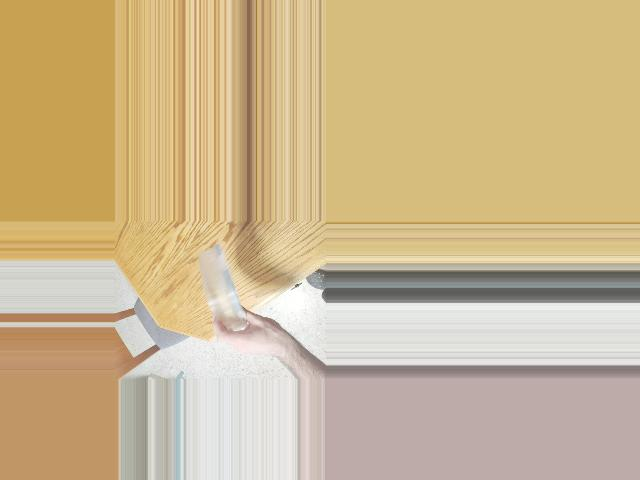cheese: (203, 242, 237, 339)
